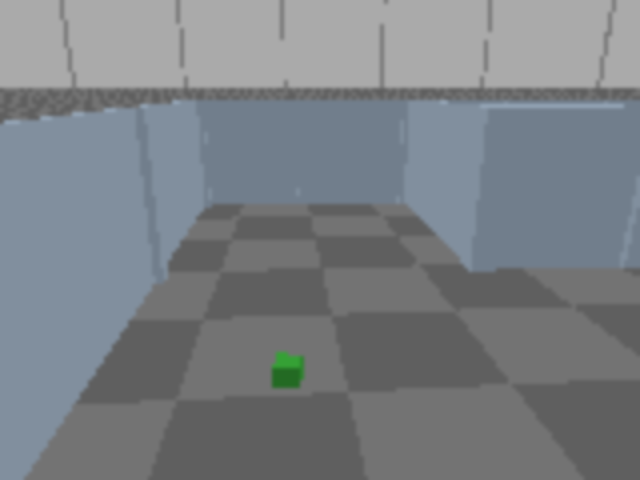puck: (273, 354, 302, 390)
